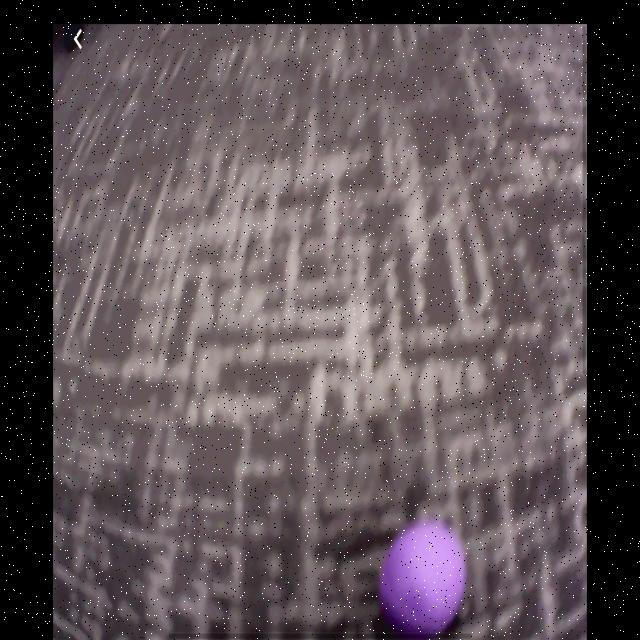ball: (381, 524, 465, 639)
